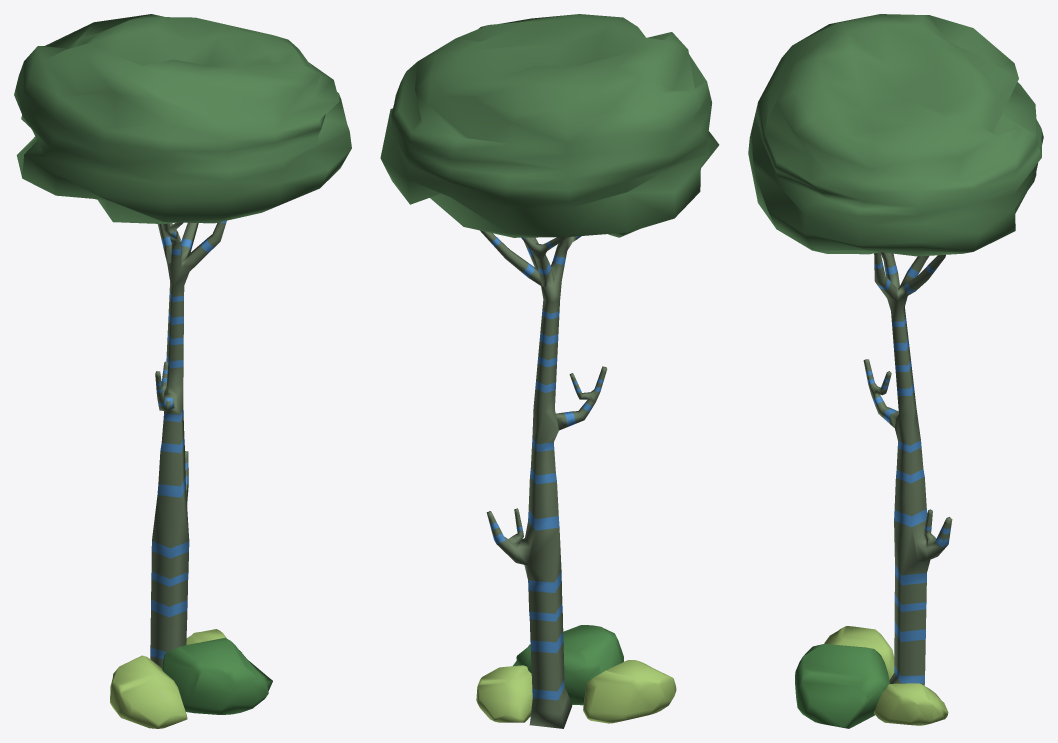
Rendered from tree_05.gltf.
3 renders of one model, left to right at view 1: azimuth 30°, elevation 25°; view 2: azimuth 150°, elevation 25°; view 3: azimuth 270°, elevation 25°, orthographic. The views are drawn at different scales.
Parts seen in each view (by area): view 1: tree_05; view 2: tree_05; view 3: tree_05.
Boxes of the visible parts, bbox=[...] form: tree_05: bbox=[14, 14, 351, 728]; tree_05: bbox=[380, 14, 719, 728]; tree_05: bbox=[748, 14, 1043, 728].
Bounding box in the file's own units: 3.15 × 6.81 × 2.8.
Materials: 1 (1 with a texture image).
